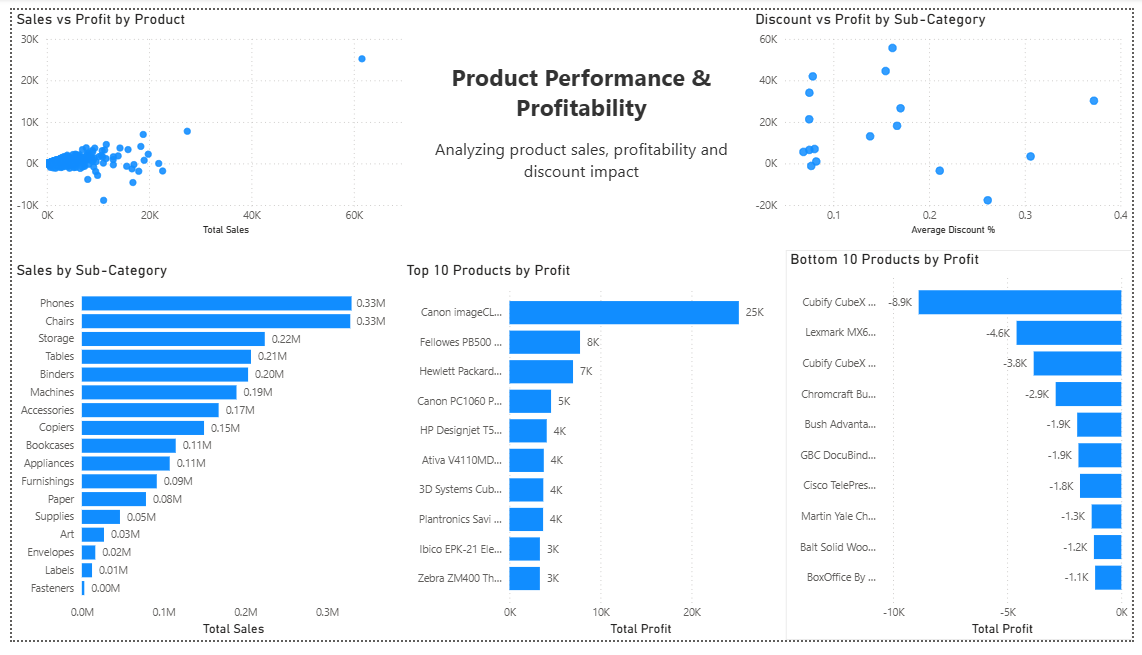

What the dashboard file says about the page in this screenshot:
{"tool":"powerbi","page":{"name":"Product & Profitability Analysis","canvas":[1280,720],"ordinal":1},"visuals":[{"type":"clusteredBarChart","title":"Sales by Sub-Category","fields":{"Y":["Sample - Superstore.Total Sales"],"Category":["Sample - Superstore.Sub-Category"]},"box":[0,287.1,445.7,432.9],"z":0},{"type":"clusteredBarChart","title":"Top 10 Products by Profit","fields":{"Category":["Sample - Superstore.Product Name"],"Y":["Sample - Superstore.Total Profit"]},"box":[445.7,287.1,438.6,432.9],"z":1000},{"type":"scatterChart","title":"Sales vs Profit by Product","fields":{"X":["Sample - Superstore.Total Sales"],"Y":["Sample - Superstore.Total Profit"],"Category":["Sample - Superstore.Product Name"]},"box":[0,0,464.3,262.9],"z":2000},{"type":"clusteredBarChart","title":"Bottom 10 Products by Profit","fields":{"Category":["Sample - Superstore.Product Name"],"Y":["Sample - Superstore.Total Profit"]},"box":[884.3,274.3,395.7,445.7],"z":3000},{"type":"scatterChart","title":"Discount vs Profit by Sub-Category","fields":{"Y":["Sample - Superstore.Total Profit"],"X":["Sample - Superstore.Average Discount %"],"Category":["Sample - Superstore.Sub-Category"]},"box":[844.3,0,435.7,262.9],"z":4000},{"type":"textbox","box":[464,0,373,263],"z":5000}]}

Visuals, with their boxes in screenshot pixels (x1, y1, x2, y2), scaled from the page's 1280x720 canvas onto the 1142x655 screenshot:
"Sales by Sub-Category" clusteredBarChart: bbox(0, 261, 398, 654)
"Top 10 Products by Profit" clusteredBarChart: bbox(398, 261, 789, 654)
"Sales vs Profit by Product" scatterChart: bbox(0, 0, 414, 239)
"Bottom 10 Products by Profit" clusteredBarChart: bbox(789, 250, 1141, 654)
"Discount vs Profit by Sub-Category" scatterChart: bbox(753, 0, 1141, 239)
textbox: bbox(414, 0, 747, 239)
